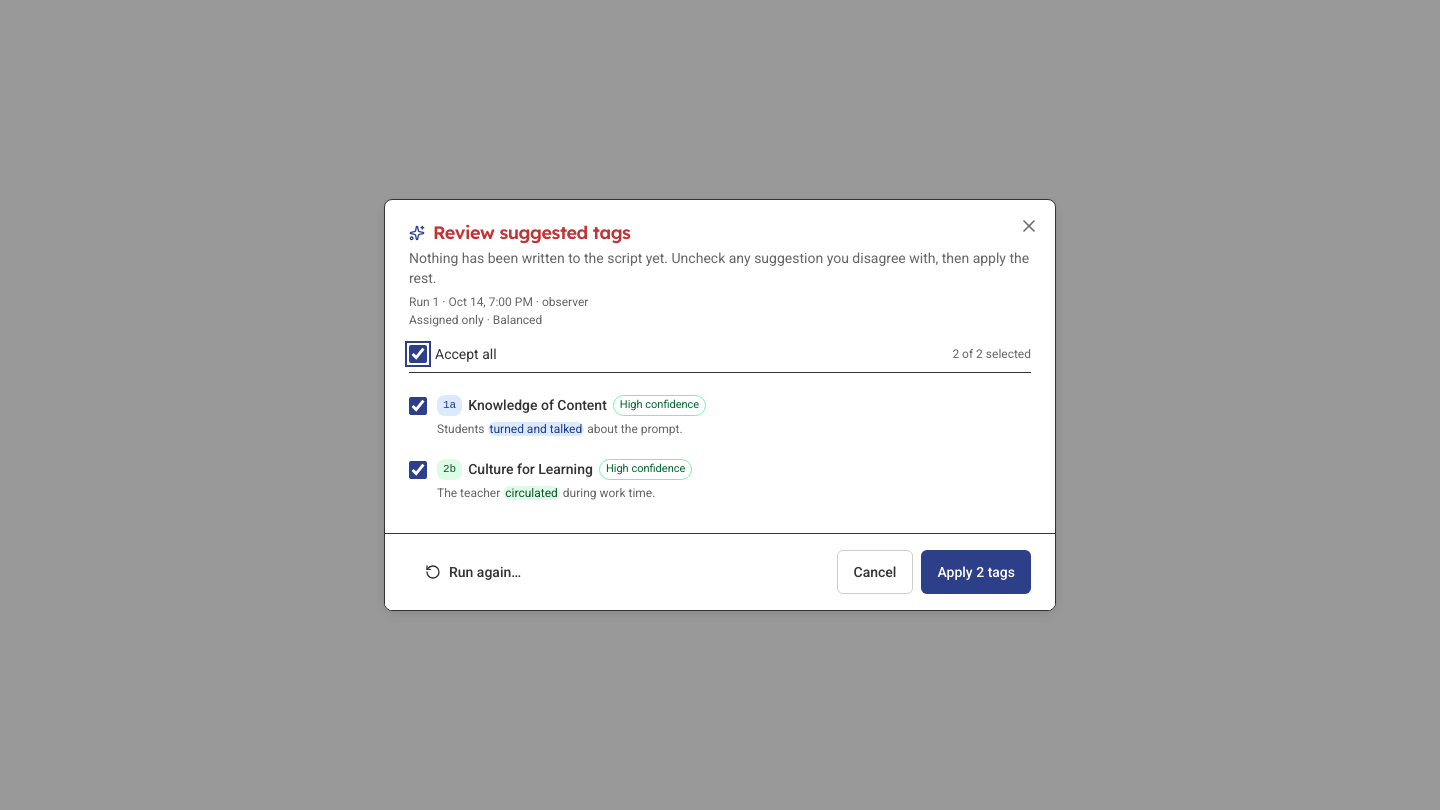
AutoTagReviewDialog › rejects everything with the header checkbox and disables Apply
Click the checkbox labelled "Accept all": (418, 354) top-left (409, 345), bottom-right (427, 363)
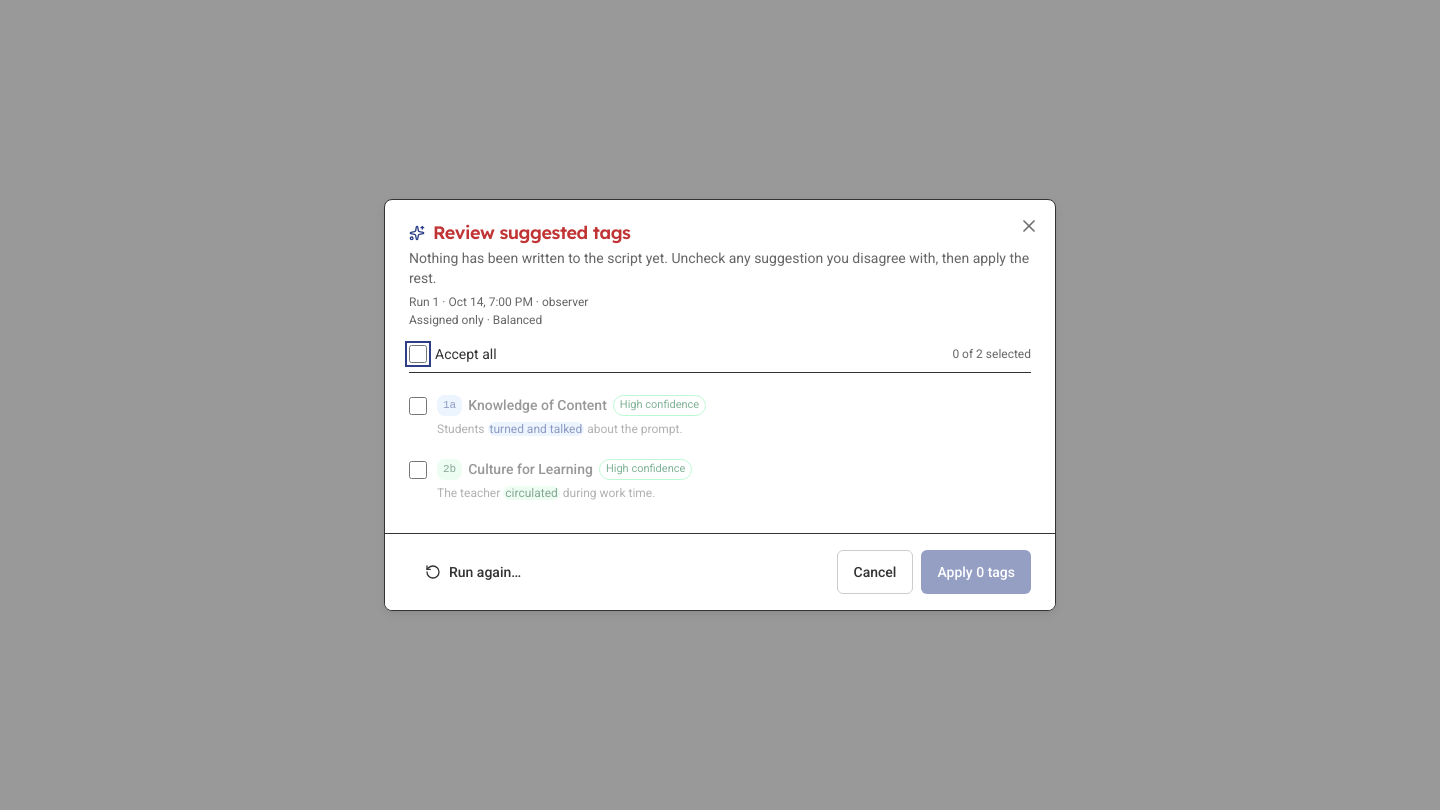
Now the button "Apply 0 tags" is disabled, box top-left (921, 550), bottom-right (1031, 594)
